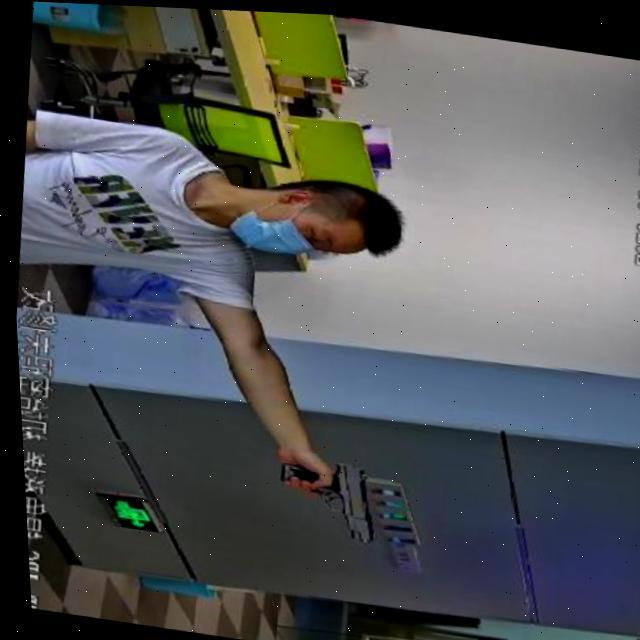gun: (248, 433, 402, 548)
